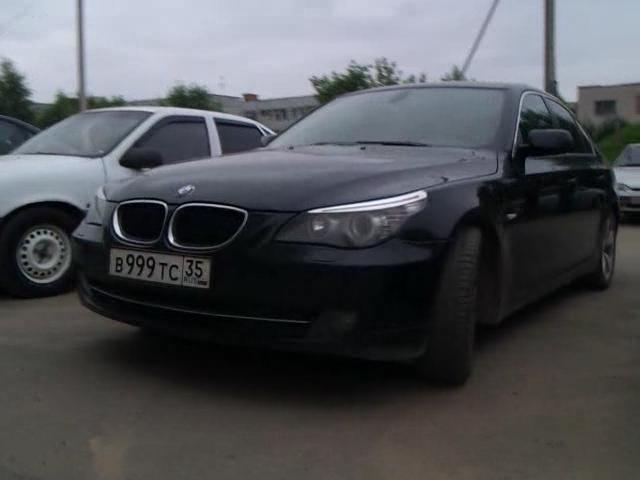car license plate: (108, 247, 212, 295)
